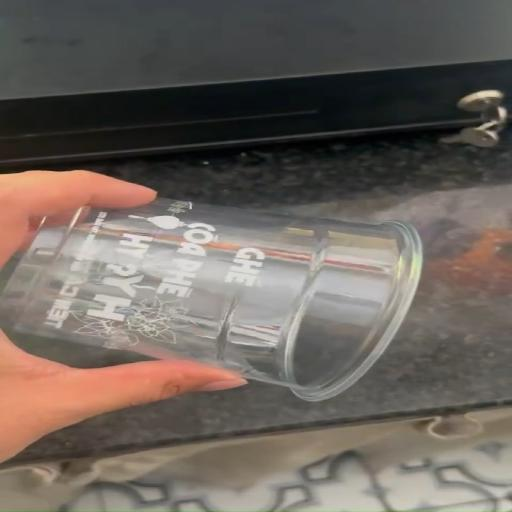ly_nhua: (0, 198, 421, 401)
